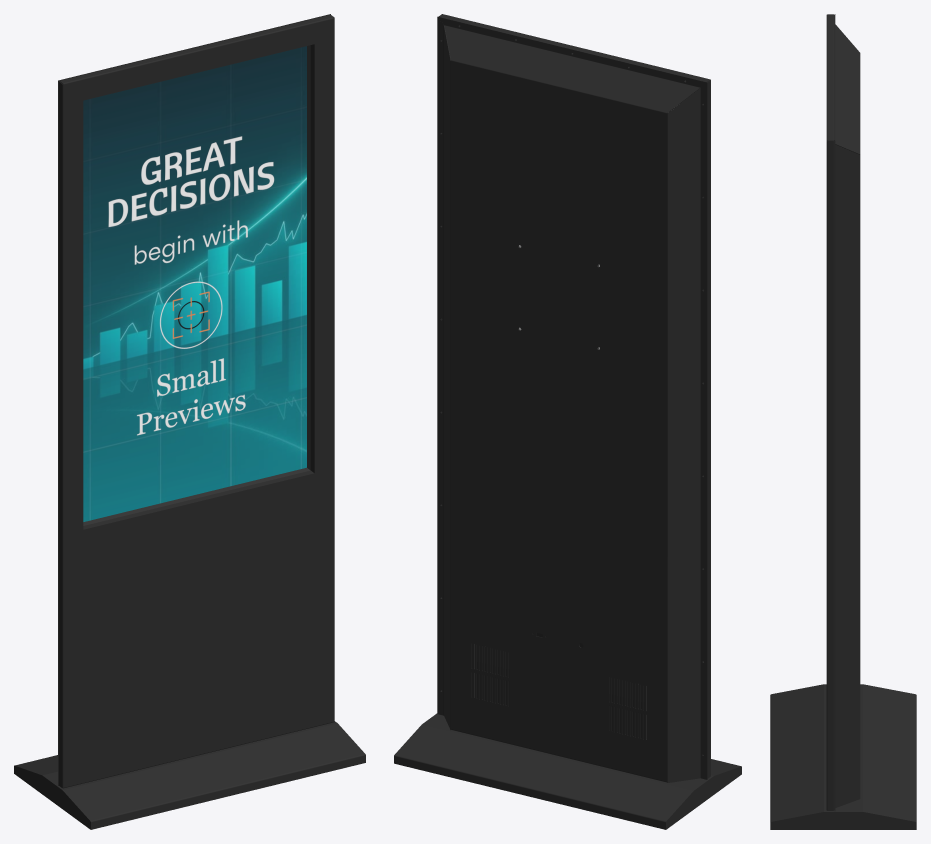
3 views of the same model, side by side, from view 1: azimuth 30°, elevation 25°; view 2: azimuth 150°, elevation 25°; view 3: azimuth 270°, elevation 25° (orthographic). The views are drawn at different scales.
Visible parts, largest first — view 1: 43 Inch Totem-Assy, 43 Inch Totem-Assy.001; view 2: 43 Inch Totem-Assy; view 3: 43 Inch Totem-Assy.
Boxes of the visible parts, left/top/right/bottom form: 43 Inch Totem-Assy: left=14, top=14, right=365, bottom=829; 43 Inch Totem-Assy.001: left=83, top=46, right=306, bottom=522; 43 Inch Totem-Assy: left=394, top=14, right=741, bottom=829; 43 Inch Totem-Assy: left=770, top=14, right=916, bottom=829.
Bounding box in the file's own units: 0.6204 × 1.56 × 0.3.
Materials: 4 (1 with a texture image).
